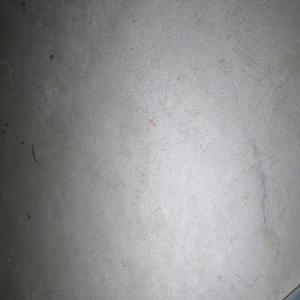Pen: (283, 285, 300, 300)
